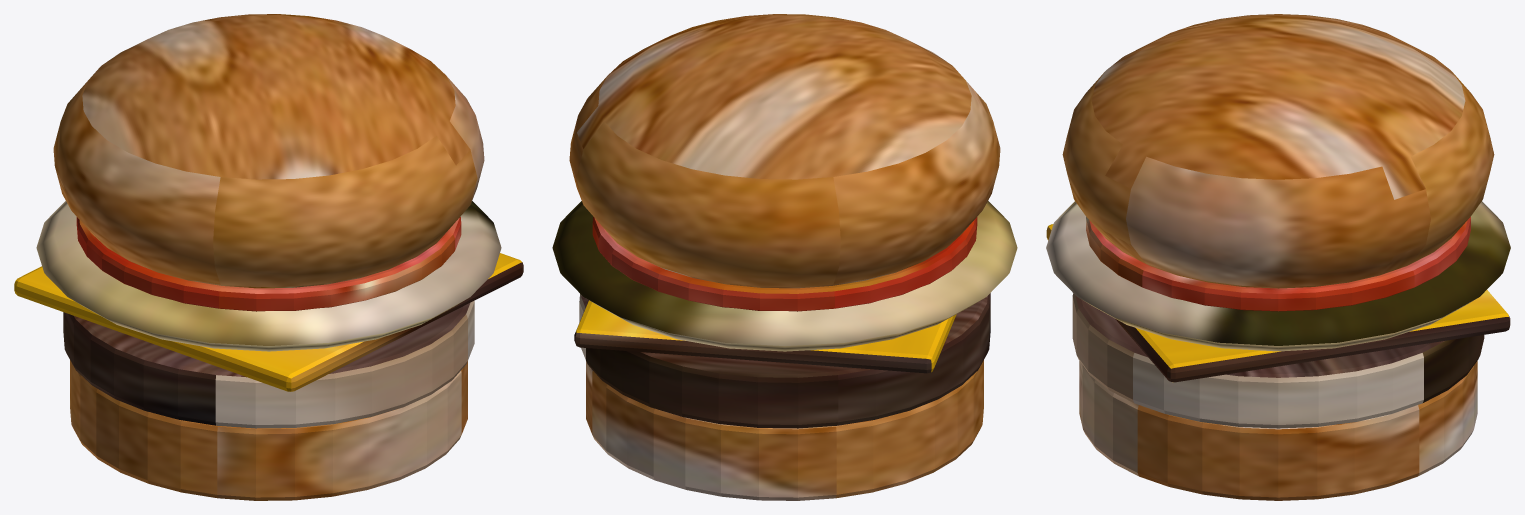
File: Food_burger.fbx
3 views of the same model, side by side, from view 1: azimuth 30°, elevation 25°; view 2: azimuth 150°, elevation 25°; view 3: azimuth 270°, elevation 25° (orthographic).
Parts seen in each view (by area): view 1: Food_burger; view 2: Food_burger; view 3: Food_burger.
Boxes of the visible parts, x1=… form: Food_burger: x1=14, y1=14, x2=523, y2=500; Food_burger: x1=552, y1=14, x2=1017, y2=500; Food_burger: x1=1046, y1=14, x2=1510, y2=500.
Size of the model in its own units: 0.14 by 0.1238 by 0.14.
